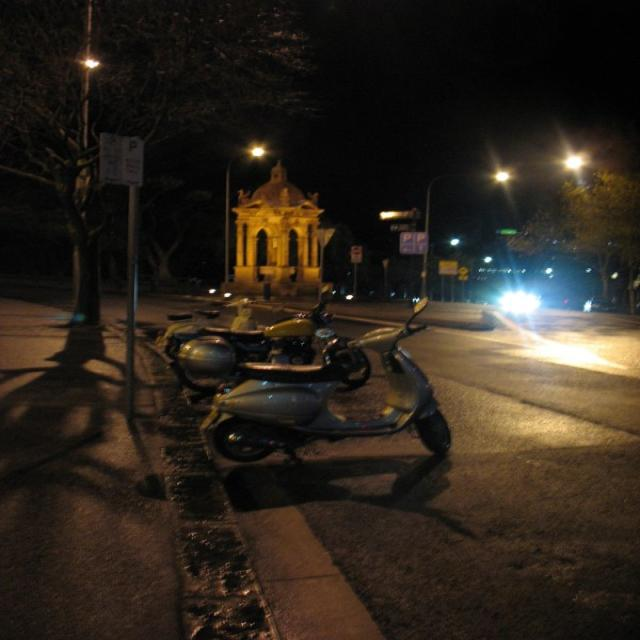Motorbike: (162, 280, 456, 476)
